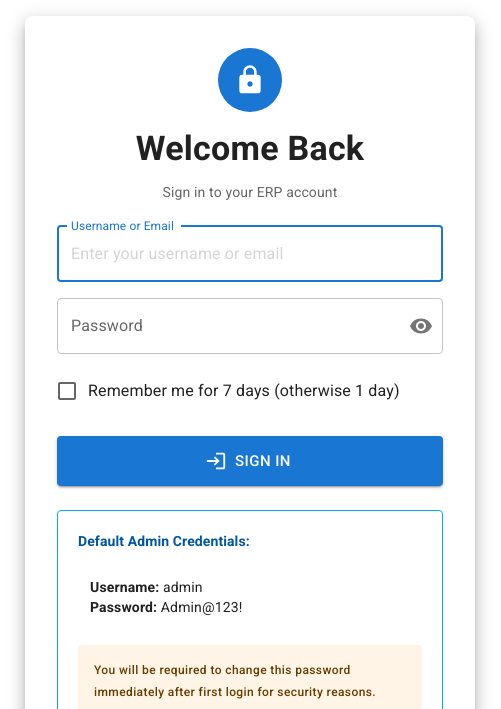
it: LoginPage › should show validation errors for empty fields
The width and height of the screenshot is (501, 709).
Expected: the heading "Default Admin Credentials:" is shown, [78, 533, 250, 549]
What coordinates should you click on to do the following:
click the button "Sign In"
I would click on:
 (250, 461)
Its box is [57, 436, 443, 486].
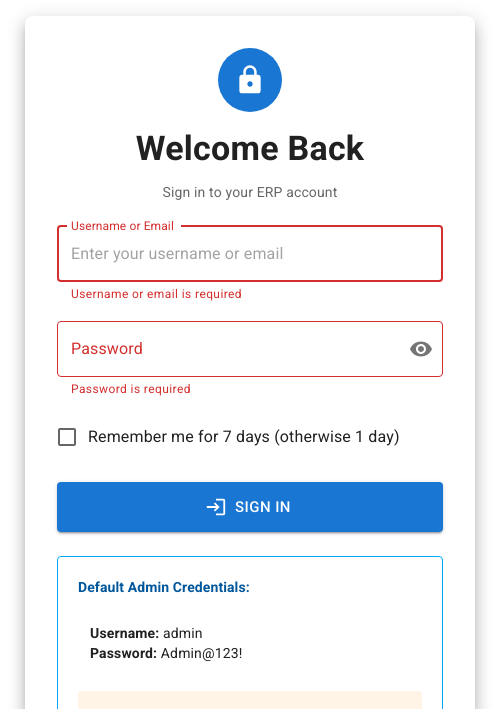
Result: the text "Username or email is required" is shown at [71, 287, 242, 301]
Result: the text "Password is required" is shown at [71, 382, 191, 396]
